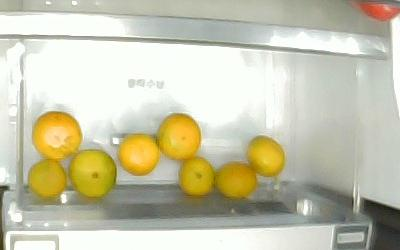tangerine: (31, 110, 82, 159), (68, 149, 116, 198), (157, 113, 202, 160), (118, 133, 159, 176), (246, 135, 286, 178), (216, 162, 258, 198), (28, 159, 66, 198), (178, 156, 215, 196)
